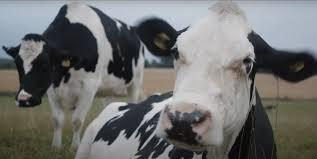cow: (73, 9, 317, 159), (3, 3, 144, 152)
